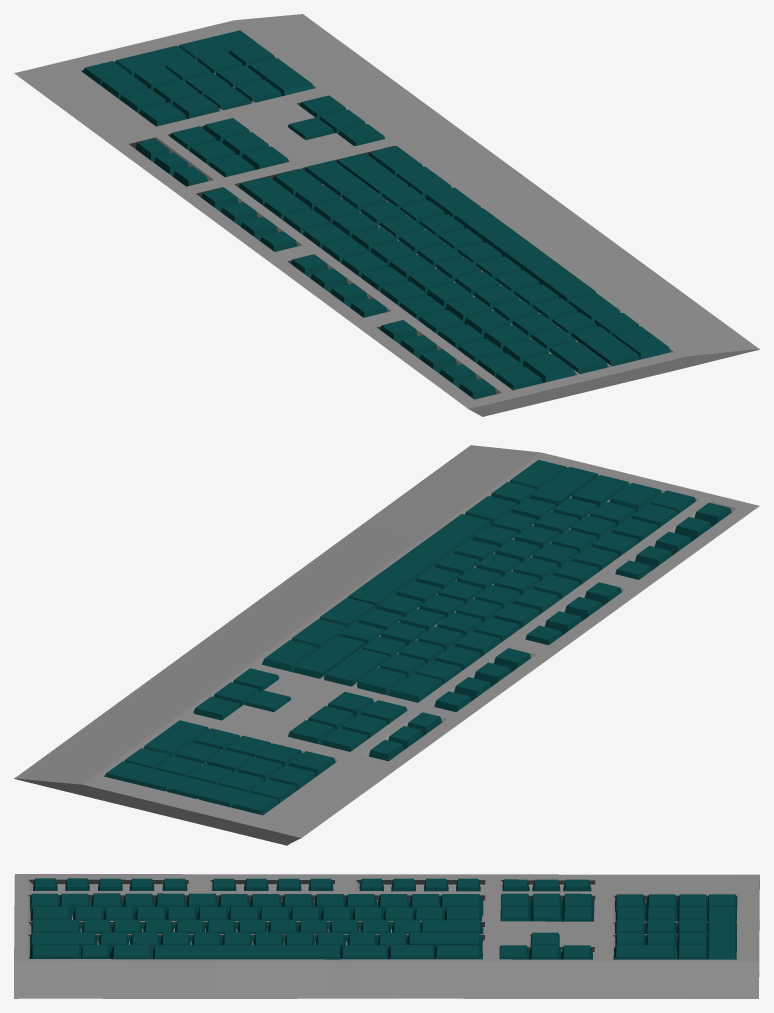
Rendered from Keyboard.glb.
3 views of the same model, one above another, from view 1: azimuth 30°, elevation 25°; view 2: azimuth 150°, elevation 25°; view 3: azimuth 270°, elevation 25° (orthographic). The views are drawn at different scales.
Visible parts, largest first — view 1: Cube.009, Plane.056, Plane.041, Plane.052, Plane.102, Plane.040, Plane.100, Plane.101, Plane.028, Plane.053, Plane.027, Plane.057 (+25 smaller); view 2: Cube.009, Plane.056, Plane.041, Plane.052, Plane.040, Plane.100, Plane.101, Plane.102, Plane.028, Plane.059, Plane.013, Plane.057 (+18 smaller); view 3: Cube.009, Plane.056, Plane.041, Plane.102, Plane.052, Plane.101, Plane.040, Plane.100, Plane.053, Plane.059, Plane.057, Plane.058 (+92 smaller).
Part boxes in pixels (bbox=[...]): Cube.009: bbox=[14, 14, 759, 416]; Plane.056: bbox=[454, 208, 596, 302]; Plane.041: bbox=[336, 153, 407, 194]; Plane.052: bbox=[571, 326, 639, 366]; Plane.102: bbox=[248, 58, 314, 96]; Plane.040: bbox=[304, 160, 369, 197]; Plane.100: bbox=[115, 45, 193, 76]; Plane.101: bbox=[178, 30, 256, 59]; Plane.028: bbox=[549, 341, 607, 373]; Plane.053: bbox=[612, 326, 670, 359]; Plane.027: bbox=[522, 353, 575, 382]; Plane.057: bbox=[425, 187, 481, 217]; Cube.009: bbox=[14, 445, 759, 845]; Plane.056: bbox=[347, 514, 491, 608]; Plane.041: bbox=[293, 635, 365, 678]; Plane.052: bbox=[530, 467, 598, 506]; Plane.040: bbox=[324, 648, 389, 686]; Plane.100: bbox=[167, 777, 246, 807]; Plane.101: bbox=[104, 761, 183, 791]; Plane.102: bbox=[143, 720, 209, 757]; Plane.028: bbox=[571, 475, 629, 507]; Plane.059: bbox=[262, 640, 318, 672]; Plane.013: bbox=[388, 673, 443, 702]; Plane.057: bbox=[319, 598, 376, 628]; Cube.009: bbox=[14, 874, 759, 998]; Plane.056: bbox=[153, 945, 340, 959]; Plane.041: bbox=[407, 932, 482, 951]; Plane.102: bbox=[613, 945, 677, 959]; Plane.052: bbox=[30, 932, 97, 948]; Plane.101: bbox=[707, 932, 736, 959]; Plane.040: bbox=[421, 920, 483, 941]; Plane.100: bbox=[707, 907, 736, 937]; Plane.053: bbox=[29, 944, 80, 958]; Plane.059: bbox=[434, 945, 482, 959]; Plane.057: bbox=[340, 945, 388, 959]; Plane.058: bbox=[388, 945, 434, 959].
Bounding box in the file's own units: 0.4412 × 0.0217 × 1.2.
